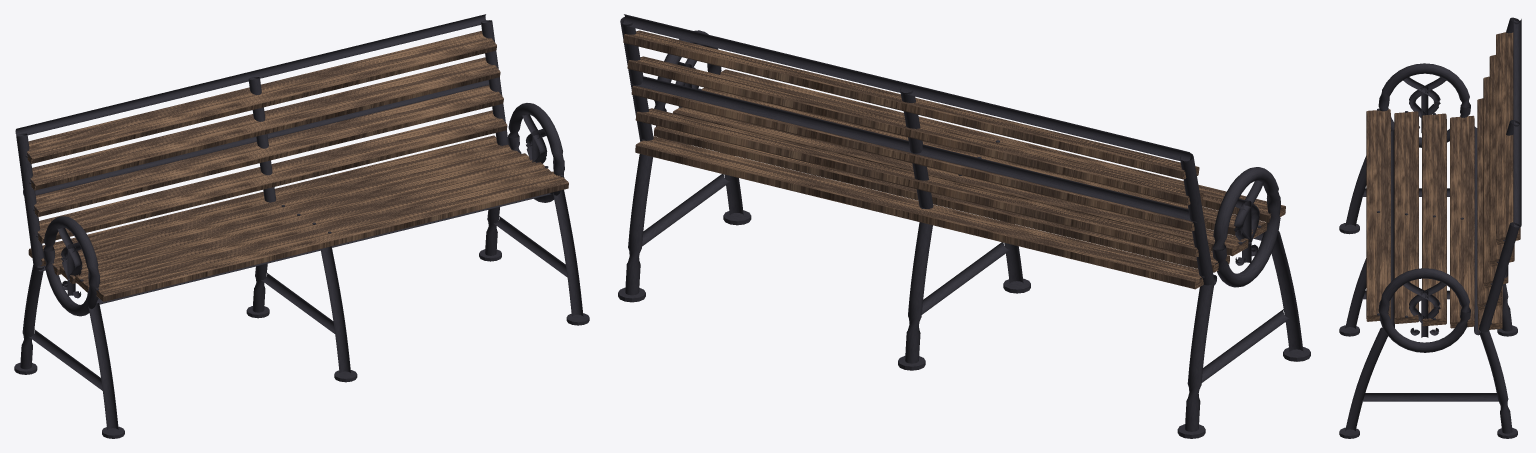
File: cp_bench.glb
3 renders of one model, left to right at view 1: azimuth 30°, elevation 25°; view 2: azimuth 150°, elevation 25°; view 3: azimuth 270°, elevation 25°, orthographic. The views are drawn at different scales.
Parts seen in each view (by area): view 1: ParkFurn_Bench_CP; view 2: ParkFurn_Bench_CP; view 3: ParkFurn_Bench_CP.
Part boxes in pixels (x1=…): ParkFurn_Bench_CP: x1=14, y1=14, x2=589, y2=438; ParkFurn_Bench_CP: x1=618, y1=14, x2=1310, y2=438; ParkFurn_Bench_CP: x1=1339, y1=17, x2=1521, y2=438.
Bounding box in the file's own units: 1.85 × 0.8689 × 0.6665.
2 materials, 2 textured.
